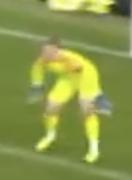goalkeeper: (18, 31, 124, 174)
